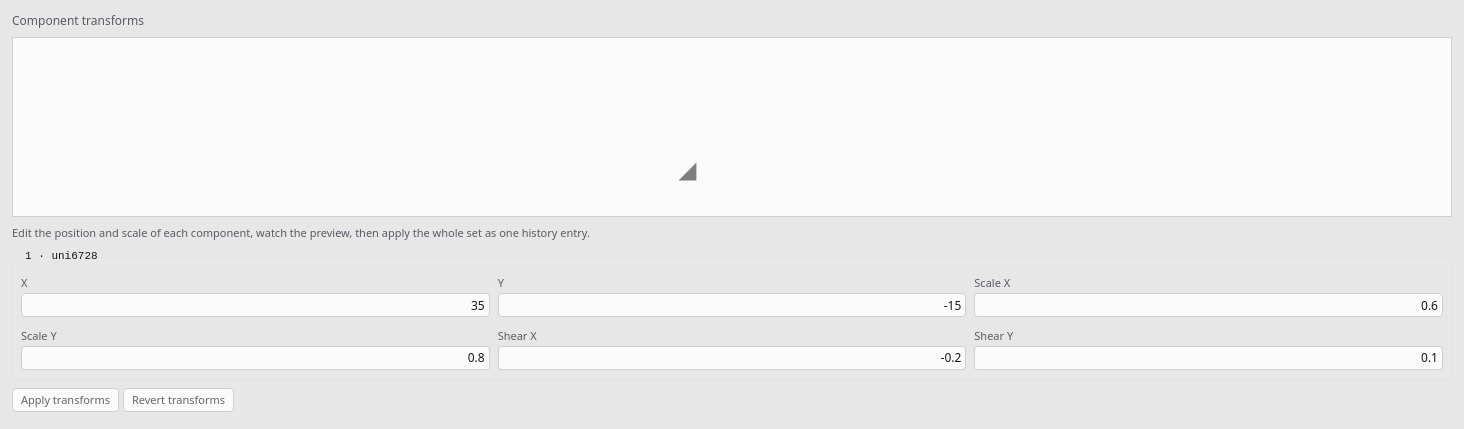
Test case: CJK component transform grid › reverts drafts and forgets an edit returned to its stored value
Check: the button "Apply transforms" is disabled, box [12, 388, 119, 412]
Check: the button "Revert transforms" is disabled, box [123, 388, 234, 412]
Replace the text in the field named "X for component 1 (uni6728)" with "420" at coordinates (255, 305), box [21, 293, 490, 317]
Then press Enter
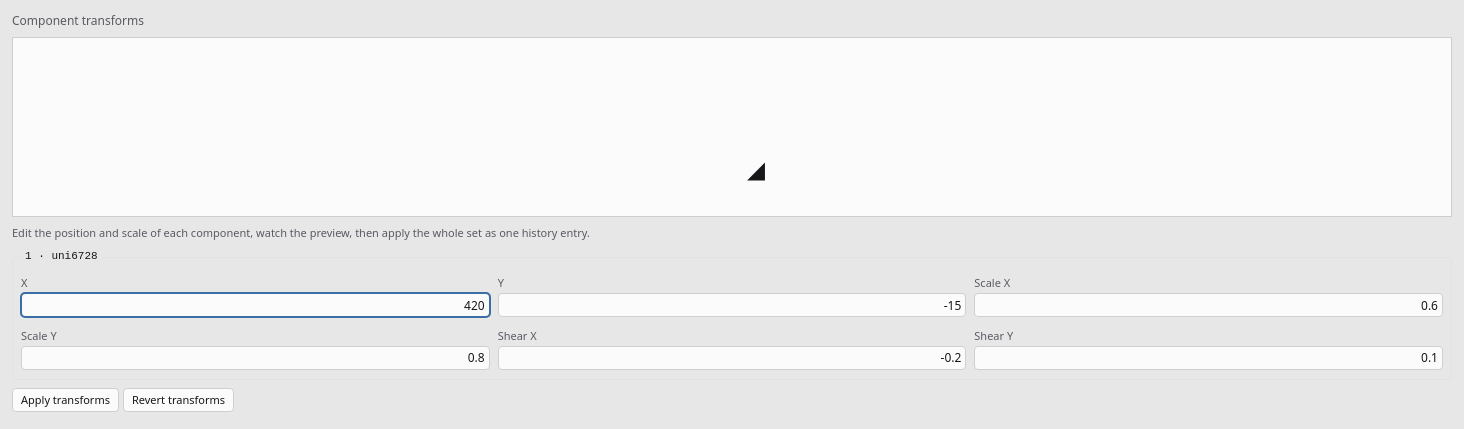
Check: the button "Apply transforms" is enabled, box [12, 388, 119, 412]
Replace the text in the field named "X for component 1 (uni6728)" with "35" at coordinates (255, 305), box [21, 293, 490, 317]
Then press Enter
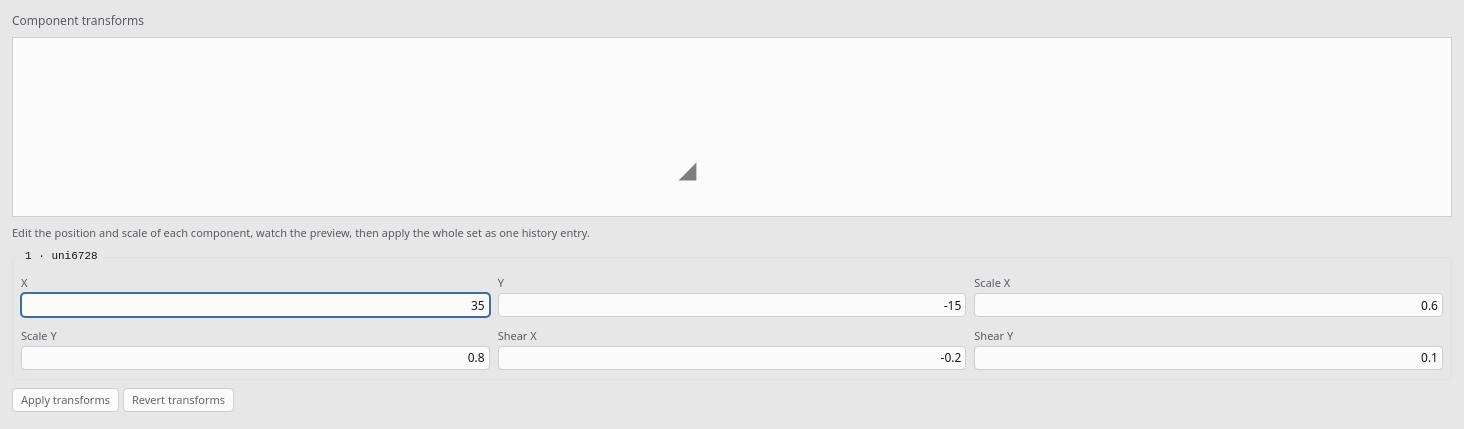
Check: the button "Apply transforms" is disabled, box [12, 388, 119, 412]
Replace the text in the field named "X for component 1 (uni6728)" with "420" at coordinates (255, 305), box [21, 293, 490, 317]
Then press Enter
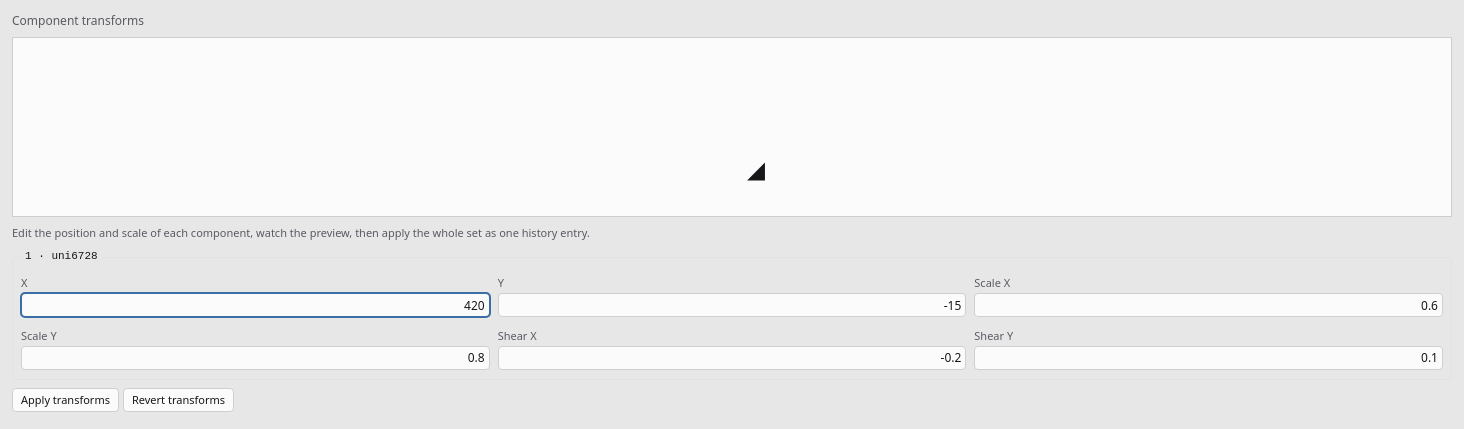
Click the button "Revert transforms" at coordinates (178, 400), box [123, 388, 234, 412]
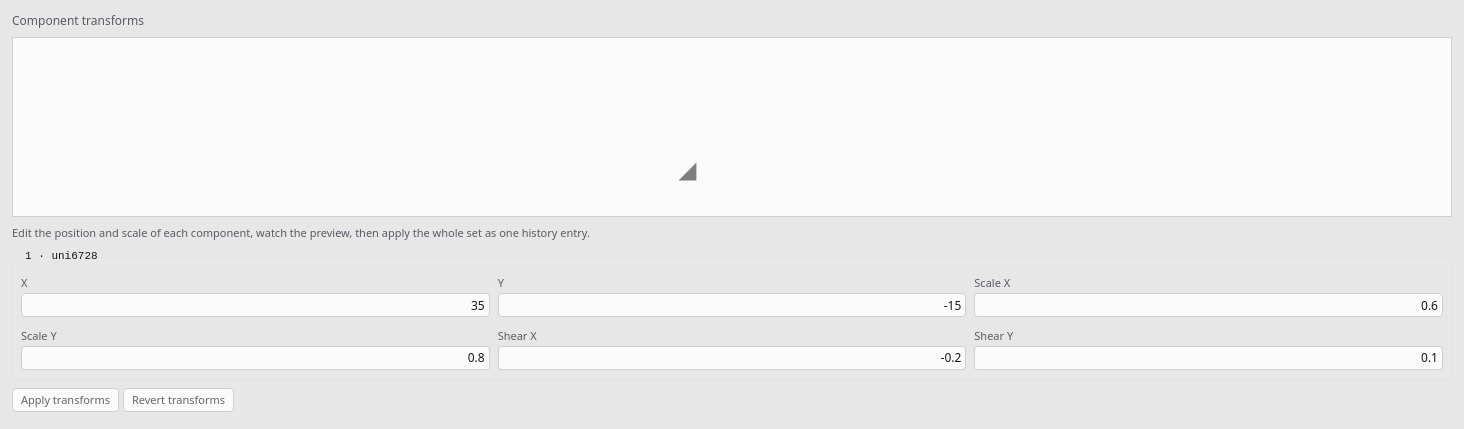
Check: the button "Apply transforms" is disabled, box [12, 388, 119, 412]
